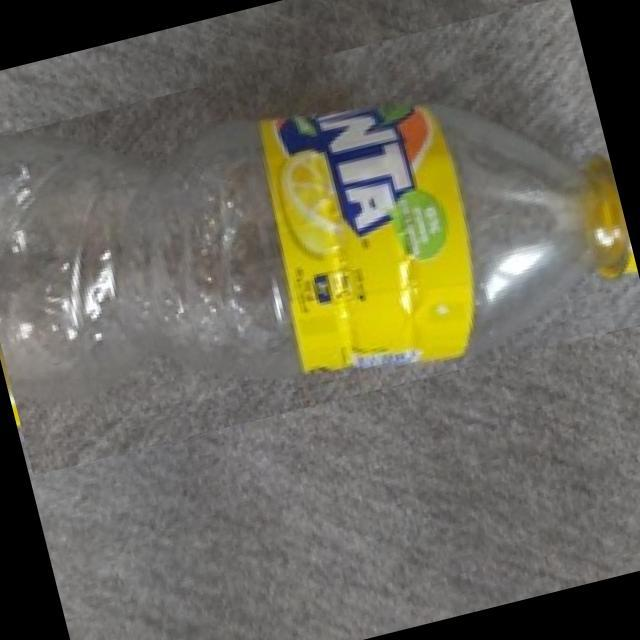good: (0, 0, 640, 475)
